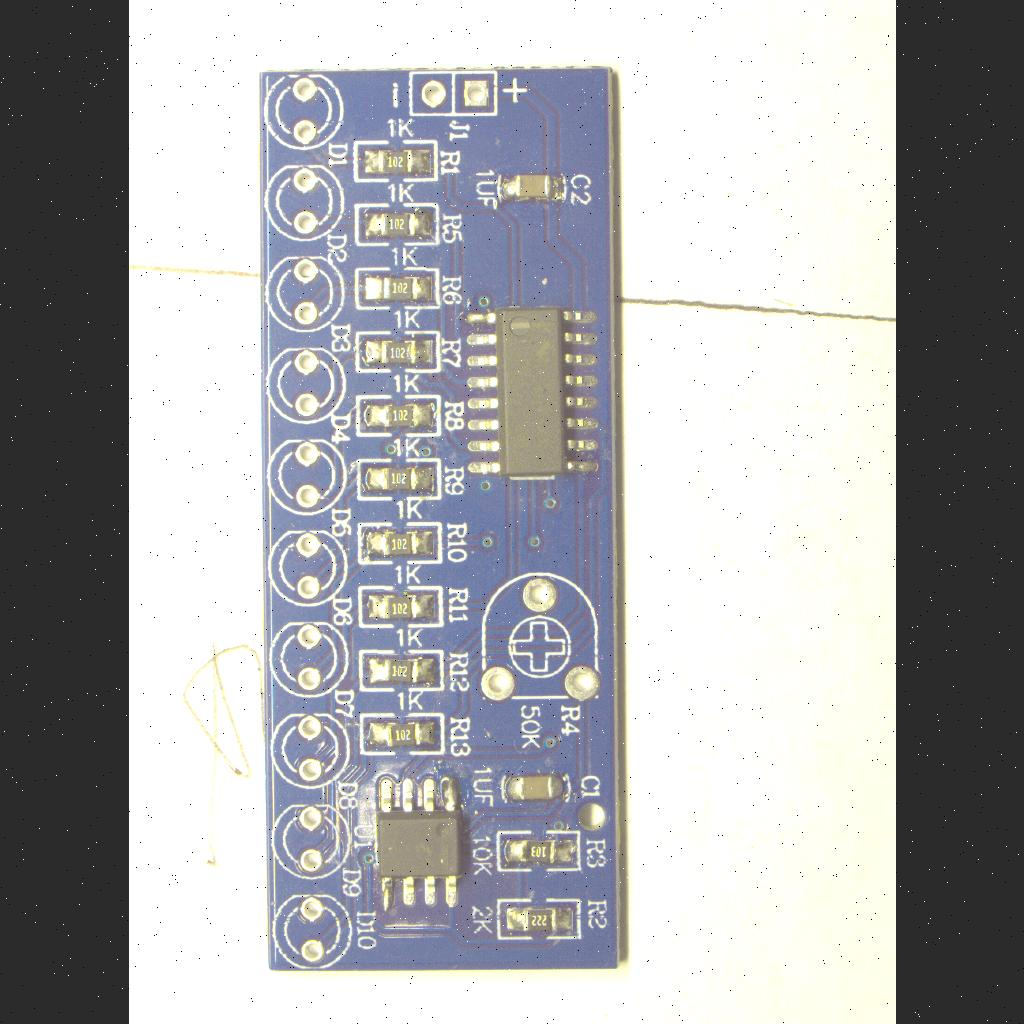OK: (458, 298, 606, 488), (368, 768, 470, 920), (354, 646, 446, 696), (492, 896, 584, 944), (492, 827, 584, 875), (350, 264, 442, 312), (355, 710, 447, 758), (354, 390, 442, 440), (351, 138, 441, 186), (354, 520, 444, 568), (350, 202, 442, 248), (355, 584, 445, 630), (352, 330, 442, 376), (354, 456, 442, 502), (500, 770, 576, 808), (494, 171, 568, 207)
